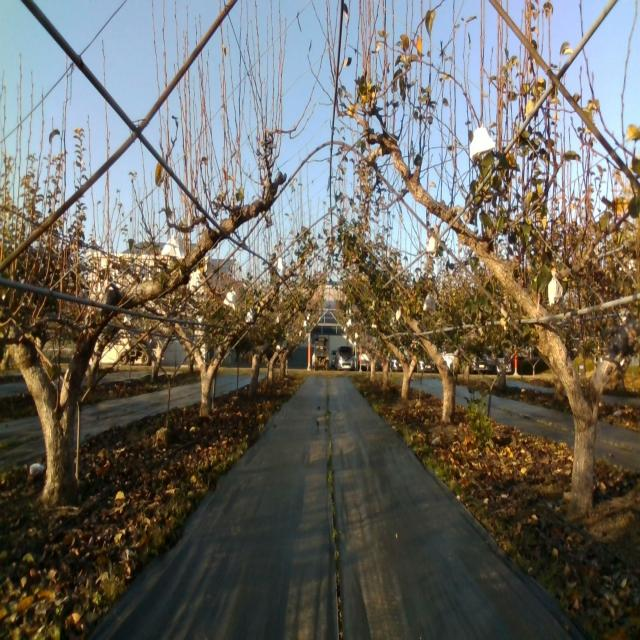pearbags: (470, 123, 495, 159), (161, 230, 185, 261), (548, 267, 563, 306), (223, 286, 236, 311), (423, 293, 435, 313)
